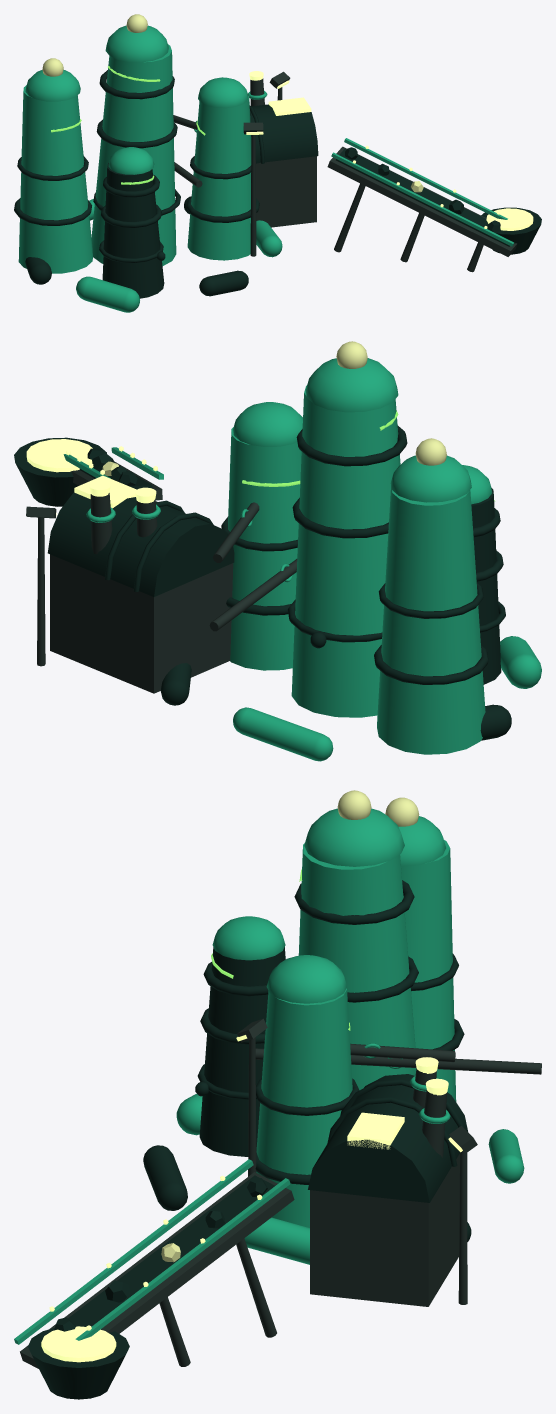
File: refinery-pelagia.glb
The picture shows the model from 3 angles, top to bottom: view 1: azimuth 30°, elevation 25°; view 2: azimuth 150°, elevation 25°; view 3: azimuth 270°, elevation 25°; orthographic projection. The views are drawn at different scales.
Visible parts, largest first — view 1: silo_0, silo_1, silo_2, silo_3, crusher_house, crusher_roof, conveyor_bed, silo_cap_1, conveyor_belt, root_anchor_2, silo_cap_0, silo_cap_2 (+21 smaller); view 2: silo_1, silo_0, crusher_house, silo_2, crusher_roof, silo_cap_1, silo_3, silo_cap_0, root_anchor_4, silo_cap_2, intake_hopper, root_anchor_2 (+21 smaller); view 3: crusher_house, silo_1, silo_2, crusher_roof, silo_3, silo_0, conveyor_bed, silo_cap_1, conveyor_belt, intake_hopper, silo_cap_2, silo_cap_3 (+23 smaller).
Part boxes in pixels (left/top/right/bottom): silo_0: left=18, top=85, right=92, bottom=273; silo_1: left=91, top=44, right=176, bottom=265; silo_2: left=187, top=95, right=251, bottom=260; silo_3: left=102, top=163, right=164, bottom=298; crusher_house: left=256, top=156, right=316, bottom=227; crusher_roof: left=250, top=104, right=318, bottom=163; conveyor_bed: left=327, top=146, right=517, bottom=256; silo_cap_1: left=105, top=25, right=168, bottom=62; conveyor_belt: left=336, top=148, right=512, bottom=246; root_anchor_2: left=76, top=276, right=139, bottom=312; silo_cap_0: left=25, top=70, right=80, bottom=101; silo_cap_2: left=198, top=77, right=248, bottom=108; silo_1: left=291, top=385, right=400, bottom=717; silo_0: left=377, top=486, right=485, bottom=754; crusher_house: left=50, top=554, right=233, bottom=693; silo_2: left=228, top=427, right=301, bottom=670; crusher_roof: left=47, top=492, right=234, bottom=596; silo_cap_1: left=305, top=358, right=398, bottom=412; silo_3: left=471, top=488, right=501, bottom=684; silo_cap_0: left=390, top=455, right=471, bottom=502; root_anchor_4: left=233, top=707, right=333, bottom=761; silo_cap_2: left=233, top=402, right=302, bottom=446; intake_hopper: left=14, top=437, right=106, bottom=506; root_anchor_2: left=500, top=636, right=541, bottom=688; crusher_house: left=310, top=1153, right=467, bottom=1306; silo_1: left=298, top=843, right=416, bottom=1090; silo_2: left=256, top=988, right=352, bottom=1227; crusher_roof: left=308, top=1074, right=467, bottom=1202; silo_3: left=199, top=947, right=285, bottom=1156; silo_0: left=401, top=840, right=456, bottom=1101; conveyor_bed: left=20, top=1172, right=294, bottom=1368; silo_cap_1: left=304, top=808, right=404, bottom=866; conveyor_belt: left=68, top=1175, right=274, bottom=1326; intake_hopper: left=28, top=1328, right=129, bottom=1399; silo_cap_2: left=266, top=955, right=346, bottom=1003; silo_cap_3: left=212, top=916, right=285, bottom=960.
Bounding box in the file's own units: 276 × 163 × 190.
